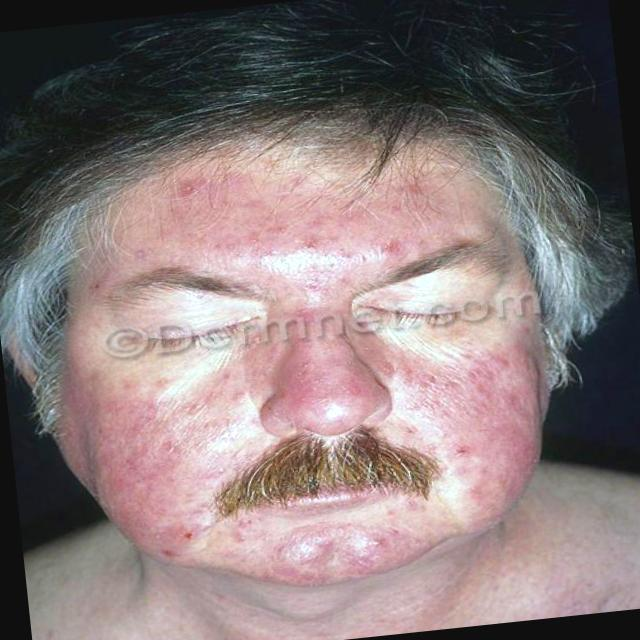skinredness: (48, 161, 523, 569)
